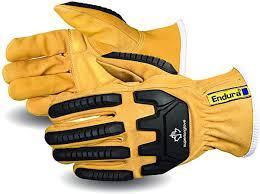gloves: (44, 67, 259, 181), (1, 1, 187, 117)
